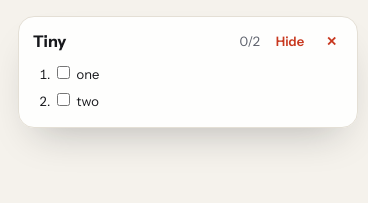
it: lessons › the panel ticks steps off and says when the lesson is done
The image size is (368, 203).
expect the text "0/2" is shown: met, box [240,33,260,49]
What coordinates should you click on to do the following:
click the checkbox labelled "one"
I would click on:
 (64, 72)
Its box is [57,66,70,79].
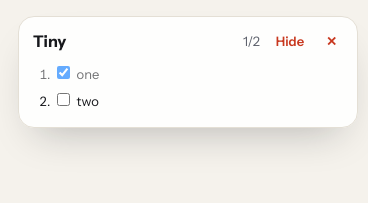
What coordinates should you click on to do the following:
click the checkbox labelled "two"
I would click on:
 (64, 99)
Its box is [57,93,70,106].
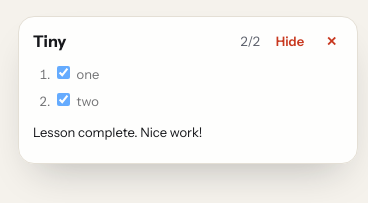
expect the text "2/2" is shown: met, box [241,33,260,49]
expect the text "Lesson complete. Nice work!" is shown: met, box [33,124,202,140]
